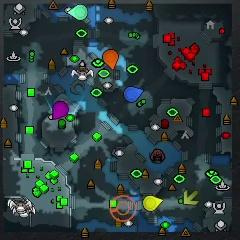p1: (124, 86, 144, 103)
p2: (69, 5, 88, 21)
p3: (53, 101, 68, 119)
p4: (143, 195, 163, 211)
p5: (104, 49, 118, 69)
x2: (182, 189, 199, 206)
